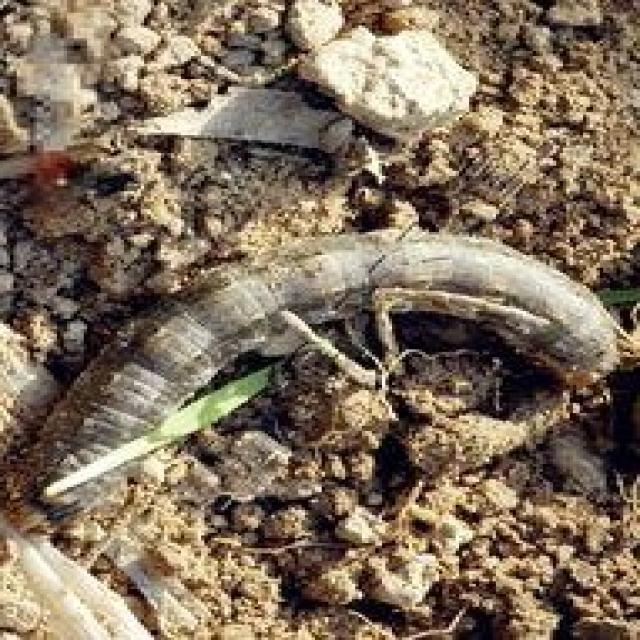black cutworm: (13, 228, 626, 549)
